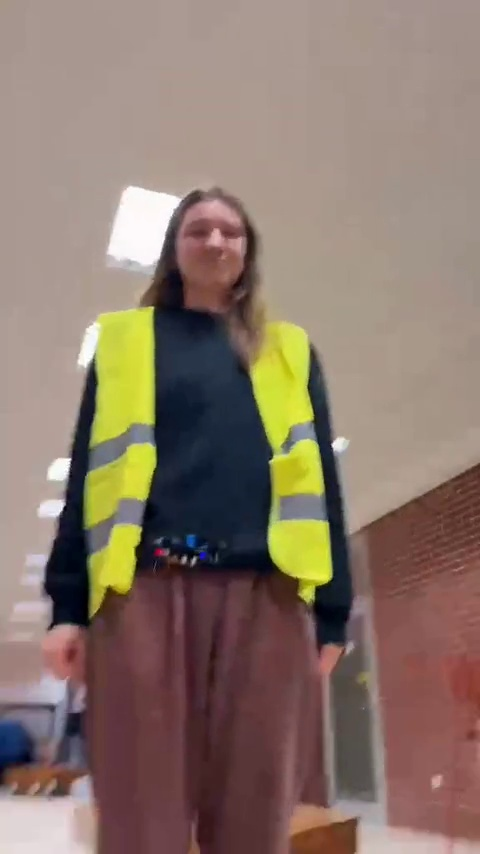drone: (143, 533, 231, 575)
vest: (51, 181, 352, 852)
